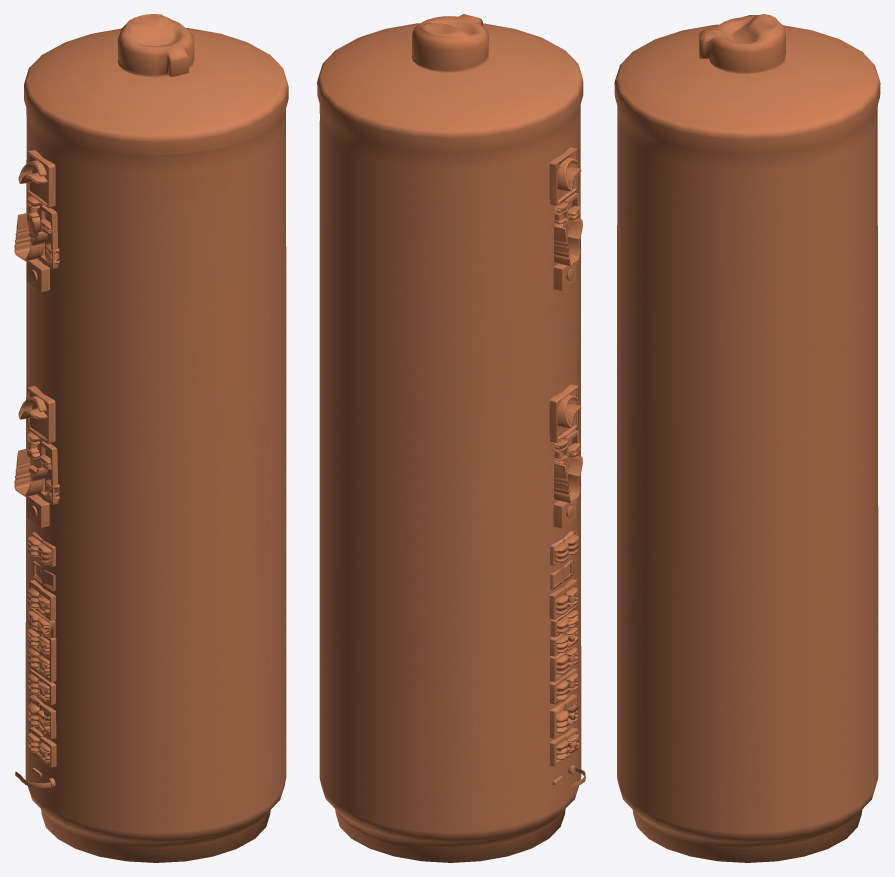
Rendered from battery.glb.
3 renders of one model, left to right at view 1: azimuth 30°, elevation 25°; view 2: azimuth 150°, elevation 25°; view 3: azimuth 270°, elevation 25°, orthographic.
Parts seen in each view (by area): view 1: tripo_node_656aa103-4810-4601-865b-7b7178d2a285; view 2: tripo_node_656aa103-4810-4601-865b-7b7178d2a285; view 3: tripo_node_656aa103-4810-4601-865b-7b7178d2a285.
Part boxes in pixels (x1,y1,x2,y2): tripo_node_656aa103-4810-4601-865b-7b7178d2a285: (14, 14, 288, 862); tripo_node_656aa103-4810-4601-865b-7b7178d2a285: (317, 14, 585, 862); tripo_node_656aa103-4810-4601-865b-7b7178d2a285: (614, 14, 880, 862).
Size of the model in its own units: 0.3258 by 1 by 0.3034.
Materials: 1 (1 with a texture image).
